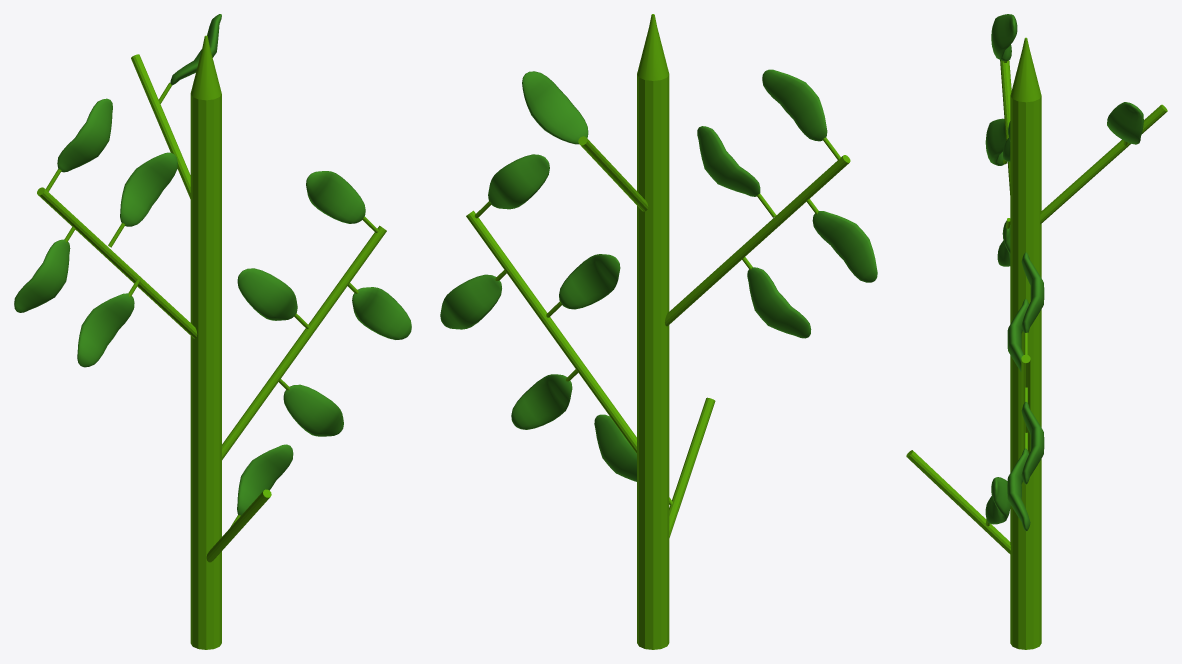
The model's file is coca2.fbx.
3 views of the same model, side by side, from view 1: azimuth 30°, elevation 25°; view 2: azimuth 150°, elevation 25°; view 3: azimuth 270°, elevation 25° (orthographic). The views are drawn at different scales.
Visible parts, largest first — view 1: Stalk, Branch3, CocaLeaf5, CocaLeaf6, CocaLeaf7, CocaLeaf1, CocaLeaf2, CocaLeaf8, CocaLeaf3, CocaLeaf4, Branch2, CocaLeaf10 (+3 smaller); view 2: Stalk, Branch3, CocaLeaf9, Branch2, CocaLeaf4, CocaLeaf3, CocaLeaf1, CocaLeaf2, CocaLeaf7, CocaLeaf8, CocaLeaf6, CocaLeaf5 (+3 smaller); view 3: Stalk, Twig6, Twig5, CocaLeaf9, CocaLeaf2, CocaLeaf1, CocaLeaf4, CocaLeaf8, CocaLeaf10, CocaLeaf3, CocaLeaf7, Branch2 (+2 smaller).
Part boxes in pixels (<box>): Stalk: <box>190,35,221,649</box>; Branch3: <box>222,225,386,459</box>; CocaLeaf5: <box>120,152,177,226</box>; CocaLeaf6: <box>77,293,134,367</box>; CocaLeaf7: <box>237,268,297,320</box>; CocaLeaf1: <box>306,171,365,223</box>; CocaLeaf2: <box>352,287,411,339</box>; CocaLeaf8: <box>283,384,343,436</box>; CocaLeaf3: <box>14,239,70,312</box>; CocaLeaf4: <box>57,98,112,172</box>; Branch2: <box>37,187,197,338</box>; CocaLeaf10: <box>237,444,293,515</box>; Stalk: <box>637,14,669,649</box>; Branch3: <box>466,210,636,453</box>; CocaLeaf9: <box>522,71,588,144</box>; Branch2: <box>665,155,850,326</box>; CocaLeaf4: <box>762,69,827,141</box>; CocaLeaf3: <box>812,211,877,282</box>; CocaLeaf1: <box>488,154,549,209</box>; CocaLeaf2: <box>440,274,501,329</box>; CocaLeaf7: <box>559,254,620,309</box>; CocaLeaf8: <box>511,374,572,429</box>; CocaLeaf6: <box>747,267,811,338</box>; CocaLeaf5: <box>697,126,760,196</box>; Stalk: <box>1010,37,1041,649</box>; Twig6: <box>1040,104,1167,224</box>; Twig5: <box>906,450,1010,553</box>; CocaLeaf9: <box>1107,102,1143,144</box>; CocaLeaf2: <box>1021,402,1044,484</box>; CocaLeaf1: <box>1021,252,1044,332</box>; CocaLeaf4: <box>991,14,1017,61</box>; CocaLeaf8: <box>1007,448,1030,531</box>; CocaLeaf10: <box>985,477,1010,524</box>; CocaLeaf3: <box>985,118,1005,165</box>; CocaLeaf7: <box>1007,299,1029,371</box>; Branch2: <box>1000,60,1011,194</box>.
Bounding box in the file's own units: 4.4 × 6.23 × 2.44.
